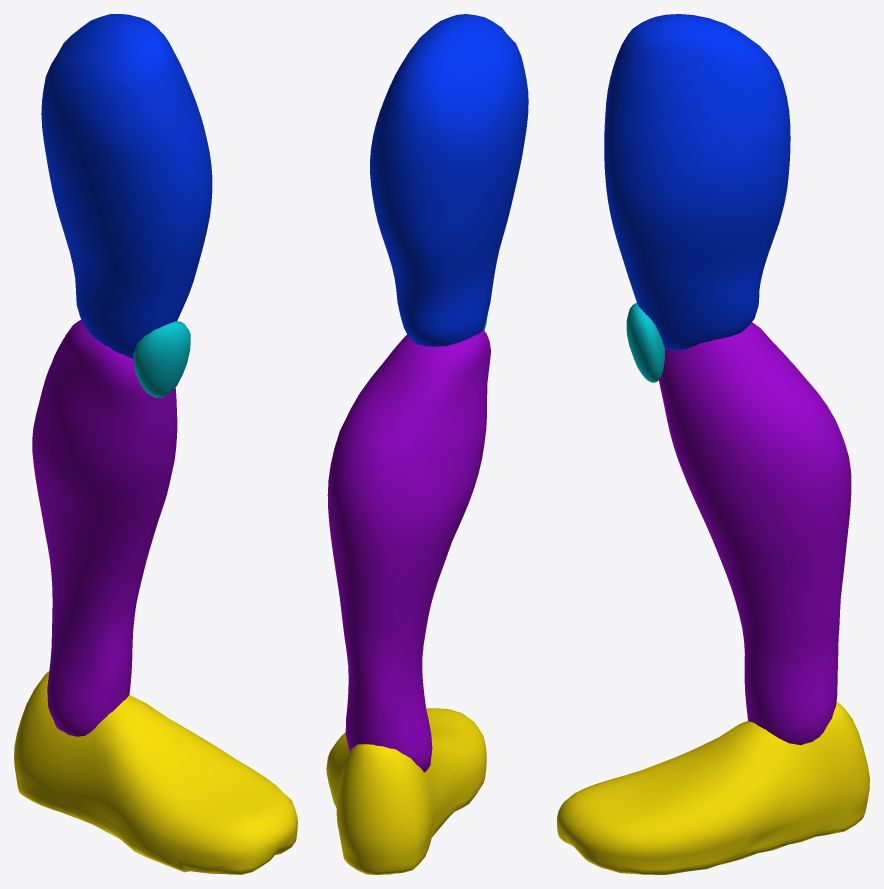
The model's file is PiernaGeo.fbx.
3 renders of one model, left to right at view 1: azimuth 30°, elevation 25°; view 2: azimuth 150°, elevation 25°; view 3: azimuth 270°, elevation 25°, orthographic. The views are drawn at different scales.
Parts seen in each view (by area): view 1: Legs_Top, Legs_bottom, Foot, Knee; view 2: Legs_bottom, Legs_Top, Foot; view 3: Legs_bottom, Legs_Top, Foot, Knee.
Part boxes in pixels (bbox=[...]): Legs_Top: bbox=[41, 14, 212, 358]; Legs_bottom: bbox=[32, 319, 177, 736]; Foot: bbox=[14, 671, 297, 874]; Knee: bbox=[133, 321, 190, 397]; Legs_bottom: bbox=[327, 330, 490, 772]; Legs_Top: bbox=[370, 14, 528, 346]; Foot: bbox=[326, 708, 486, 874]; Legs_bottom: bbox=[658, 322, 851, 745]; Legs_Top: bbox=[604, 14, 790, 350]; Foot: bbox=[557, 701, 869, 874]; Knee: bbox=[626, 302, 664, 382].
Size of the model in its own units: 4.4 by 17.34 by 6.17.
